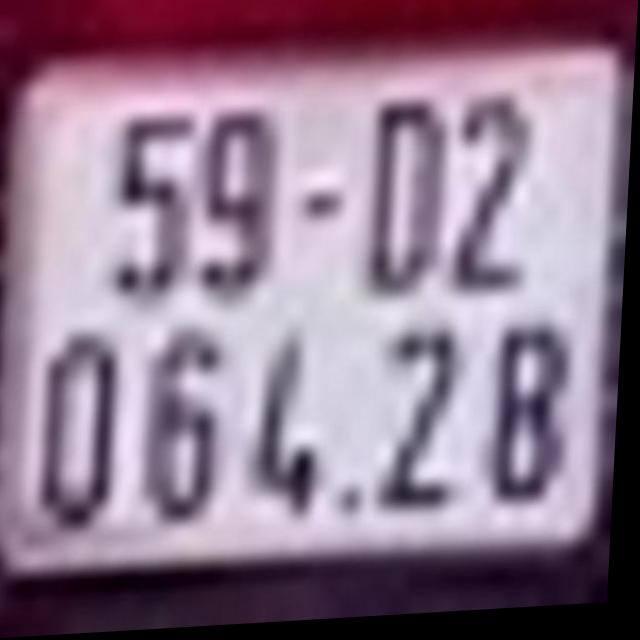0: (45, 332, 124, 533)
2: (453, 99, 535, 302), (386, 335, 471, 521)
4: (250, 331, 333, 528)
5: (116, 113, 197, 295)
6: (145, 324, 230, 524)
8: (495, 331, 576, 512)
9: (199, 113, 281, 297)
D: (367, 102, 445, 302)
